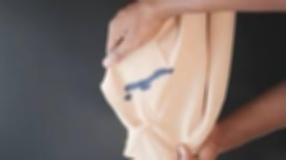ink: (124, 79, 151, 90), (153, 67, 172, 79), (124, 93, 132, 100)
